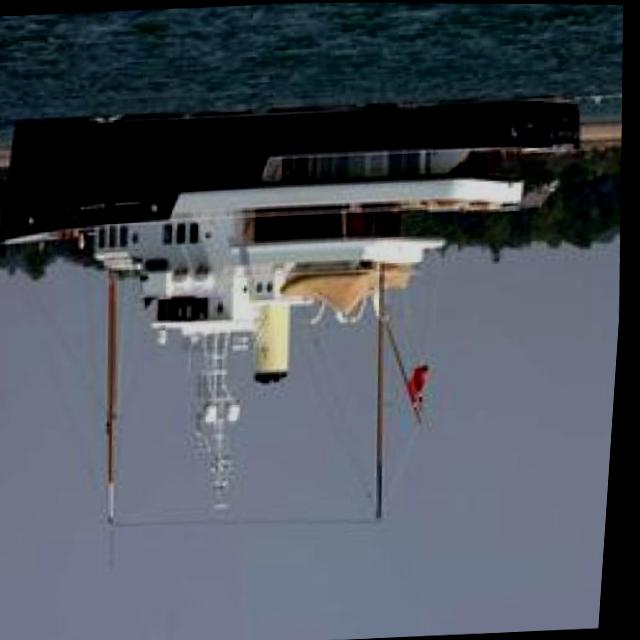ship2: (3, 98, 584, 531)
